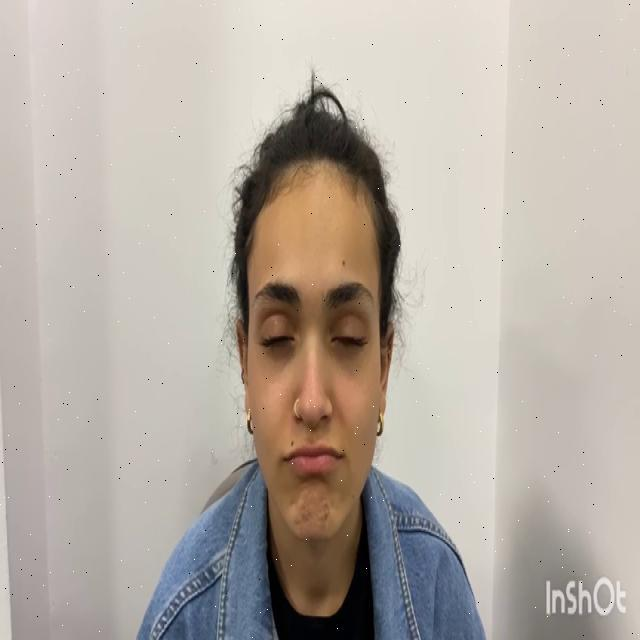natural: (233, 179, 393, 531)
